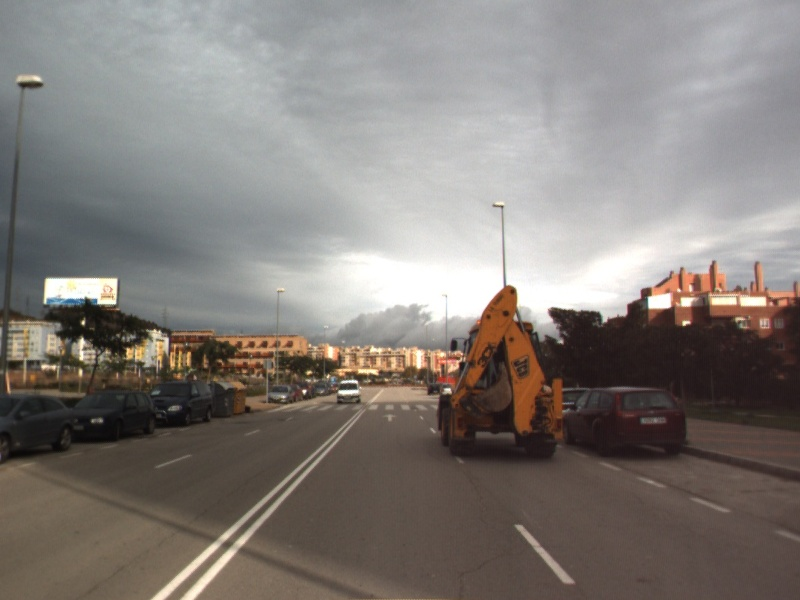STRAIGHT: (381, 411, 399, 423)
